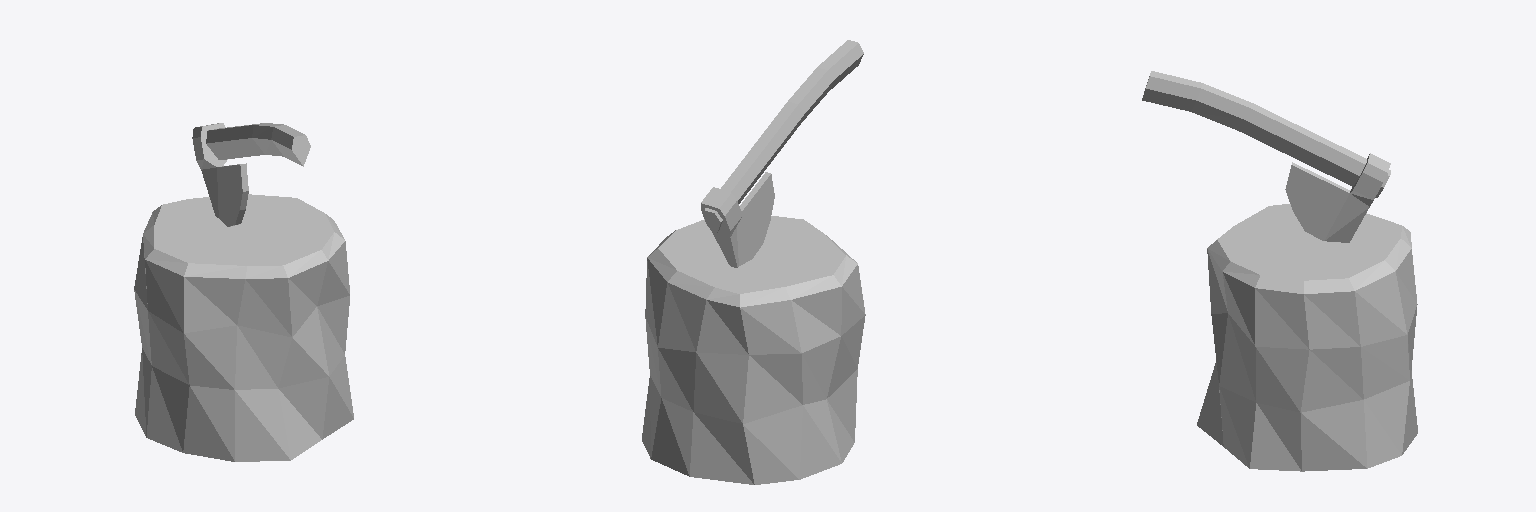
Rendered from Hackstock.obj.
3 views of the same model, side by side, from view 1: azimuth 30°, elevation 25°; view 2: azimuth 150°, elevation 25°; view 3: azimuth 270°, elevation 25° (orthographic).
Visible parts, largest first — view 1: Cylinder.011, Cylinder.012, Cube.312; view 2: Cylinder.011, Cylinder.012, Cube.312; view 3: Cylinder.011, Cylinder.012, Cube.312.
Part boxes in pixels (bbox=[...]): Cylinder.011: bbox=[134, 194, 353, 461]; Cylinder.012: bbox=[206, 123, 310, 166]; Cube.312: bbox=[192, 123, 248, 226]; Cylinder.011: bbox=[642, 216, 865, 484]; Cylinder.012: bbox=[704, 40, 863, 232]; Cube.312: bbox=[701, 172, 774, 267]; Cylinder.011: bbox=[1197, 204, 1417, 471]; Cylinder.012: bbox=[1142, 71, 1390, 197]; Cube.312: bbox=[1285, 153, 1390, 242].
Size of the model in its own units: 0.2119 by 0.3777 by 0.2746.